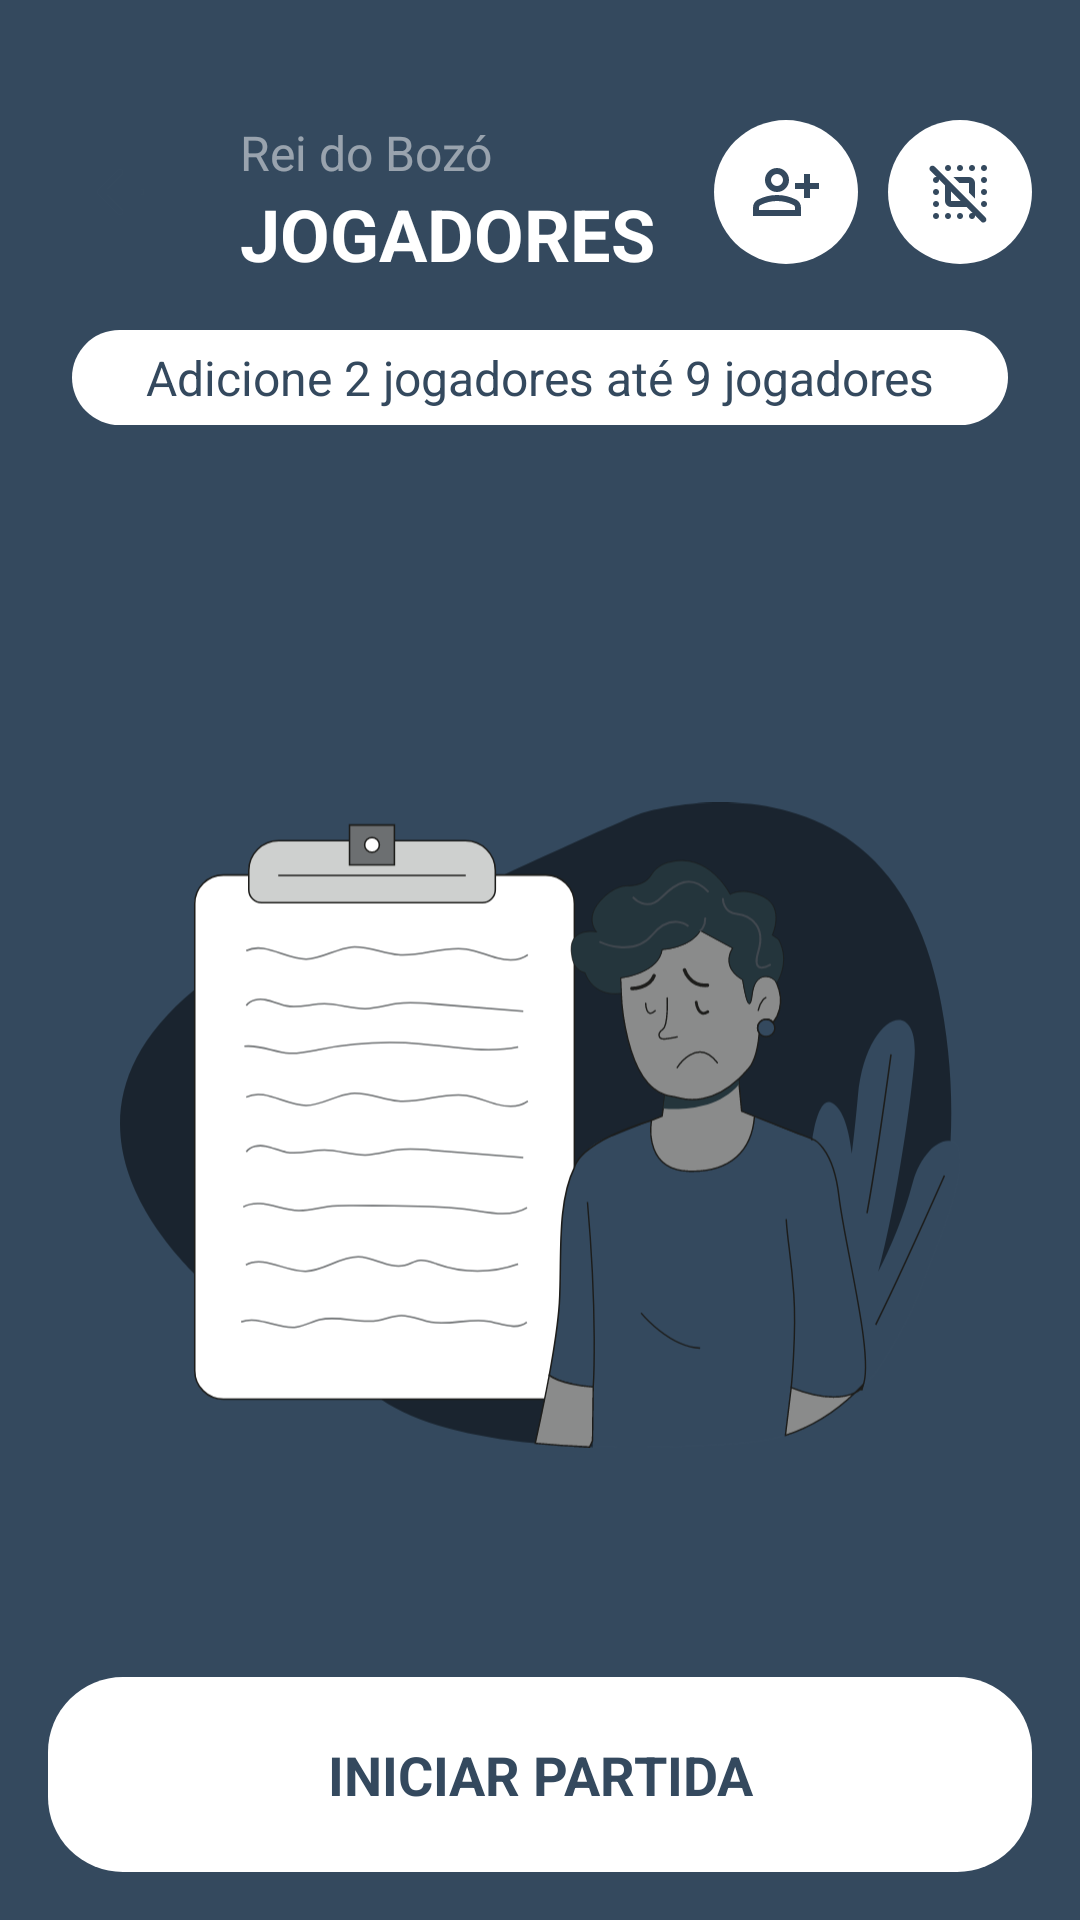

Icon bounding boxes for this 1080w x 1920h phone screenshot, format (x1, y1, x2, y2):
deselect: (888, 120, 1032, 264)
person add: (714, 120, 858, 264)
